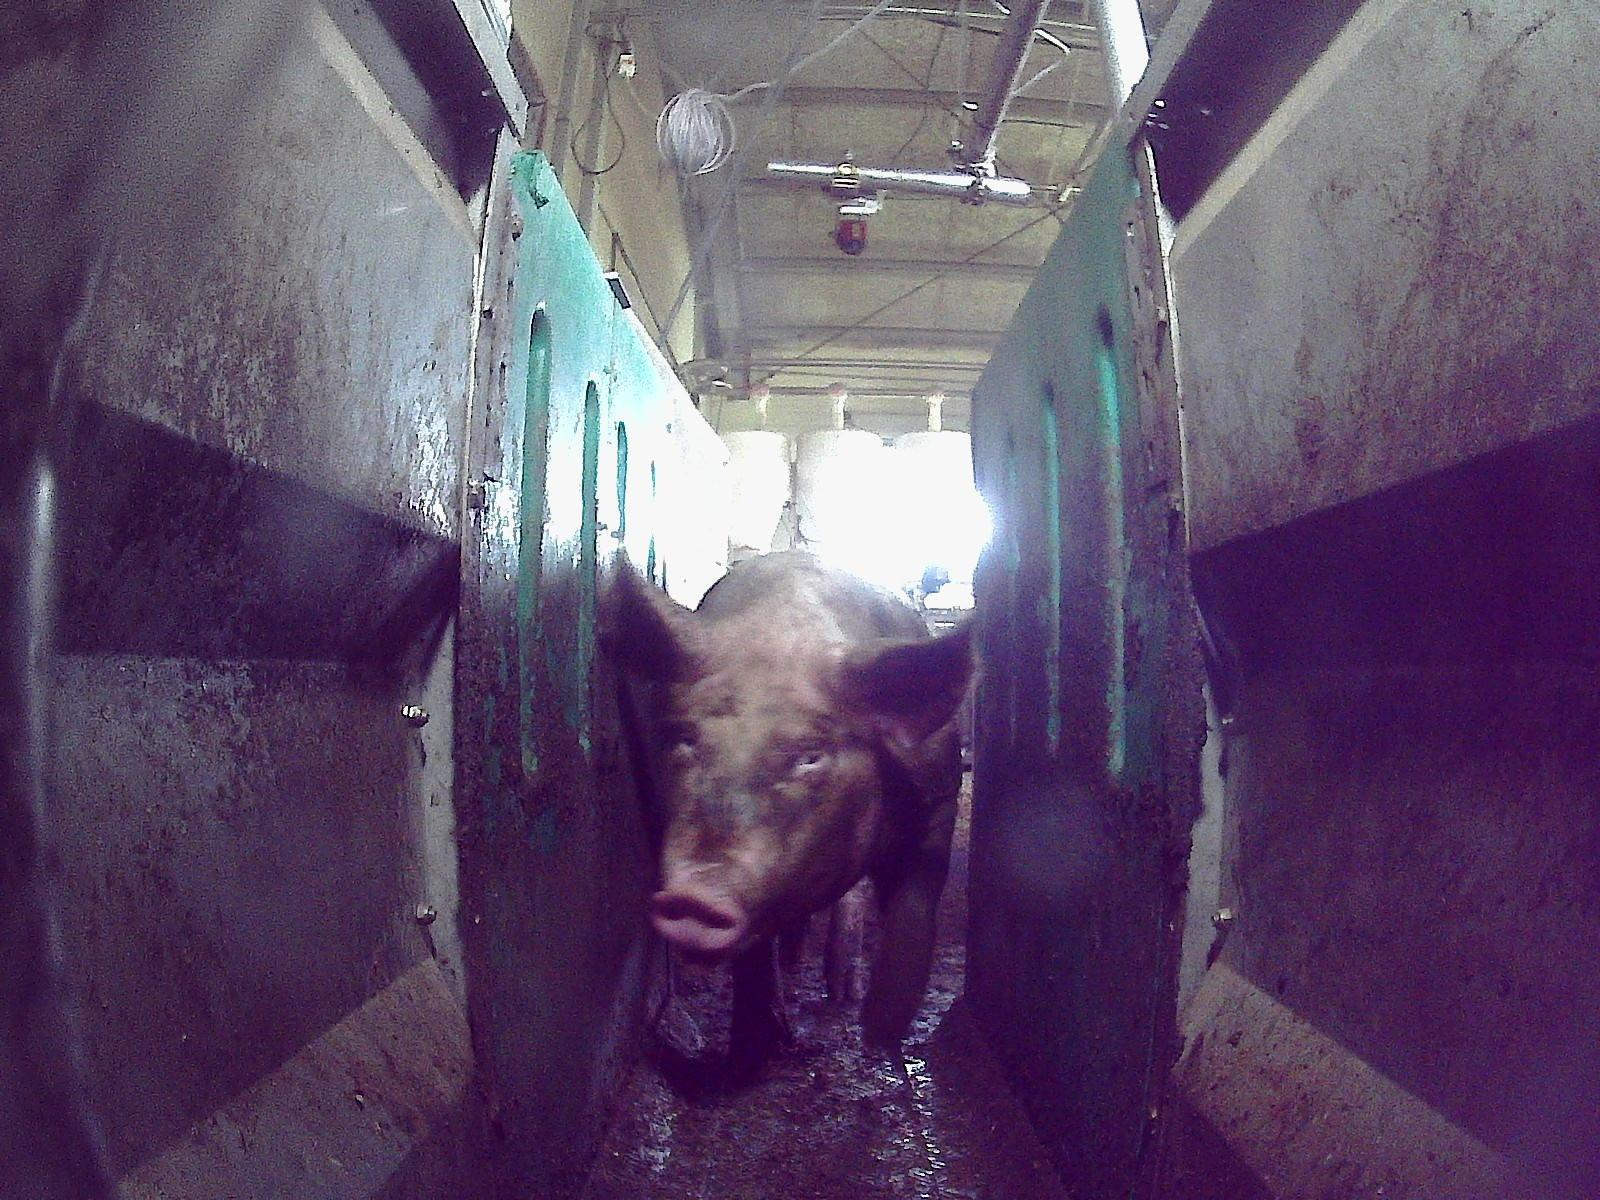Face: (647, 628, 880, 959)
